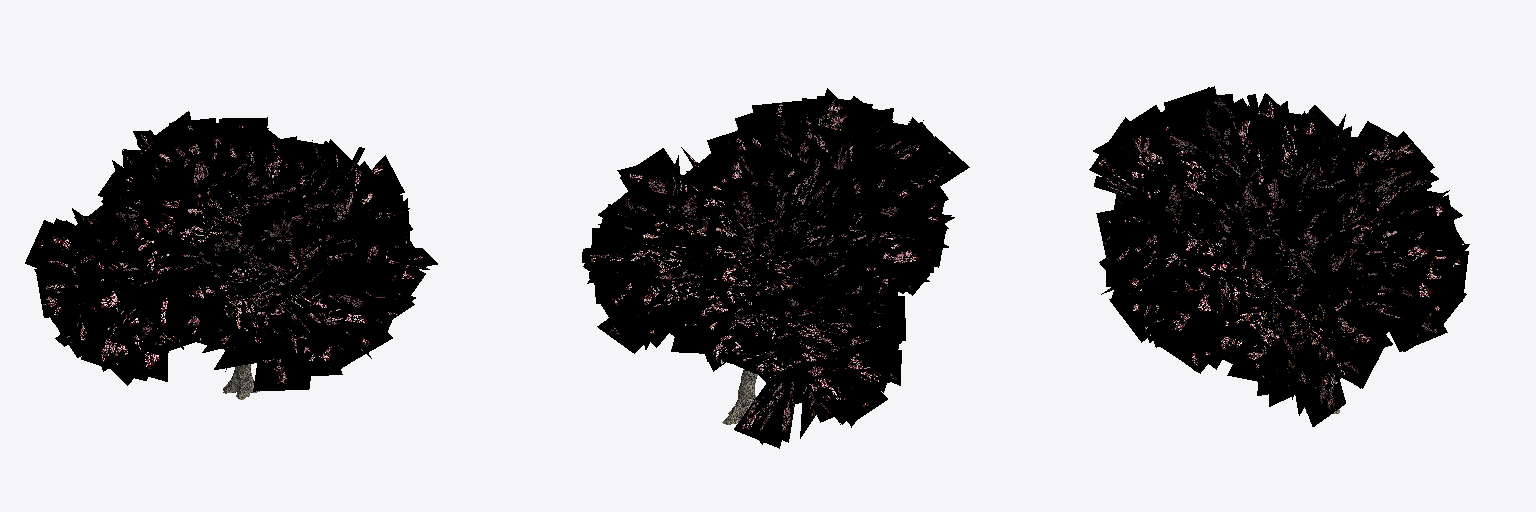
The picture shows the model from 3 angles: view 1: azimuth 30°, elevation 25°; view 2: azimuth 150°, elevation 25°; view 3: azimuth 270°, elevation 25°; orthographic projection.
Visible parts, largest first — view 1: prunusserrulata_1; view 2: prunusserrulata_1; view 3: prunusserrulata_1.
Part boxes in pixels (bbox=[...]): prunusserrulata_1: bbox=[25, 111, 437, 399]; prunusserrulata_1: bbox=[582, 88, 969, 448]; prunusserrulata_1: bbox=[1089, 86, 1469, 426].
Size of the model in its own units: 10.73 by 9.23 by 10.69.
Materials: 7 (7 with a texture image).